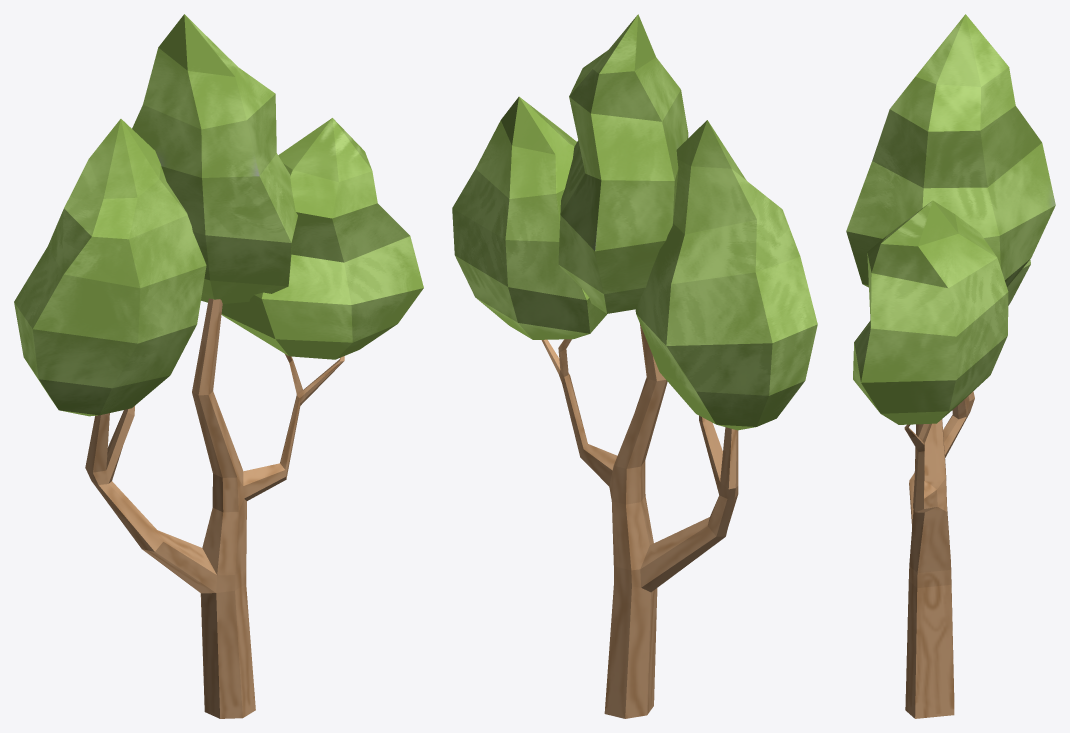
Rendered from Tree_Main (1).fbx.
The picture shows the model from 3 angles, left to right: view 1: azimuth 30°, elevation 25°; view 2: azimuth 150°, elevation 25°; view 3: azimuth 270°, elevation 25°; orthographic projection. The views are drawn at different scales.
Visible parts, largest first — view 1: Tree; view 2: Tree; view 3: Tree.
Part boxes in pixels (x1=…): Tree: x1=14, y1=14, x2=423, y2=718; Tree: x1=452, y1=14, x2=817, y2=718; Tree: x1=846, y1=14, x2=1055, y2=718.
Bounding box in the file's own units: 213 × 401 × 112.
1 material, 1 textured.
